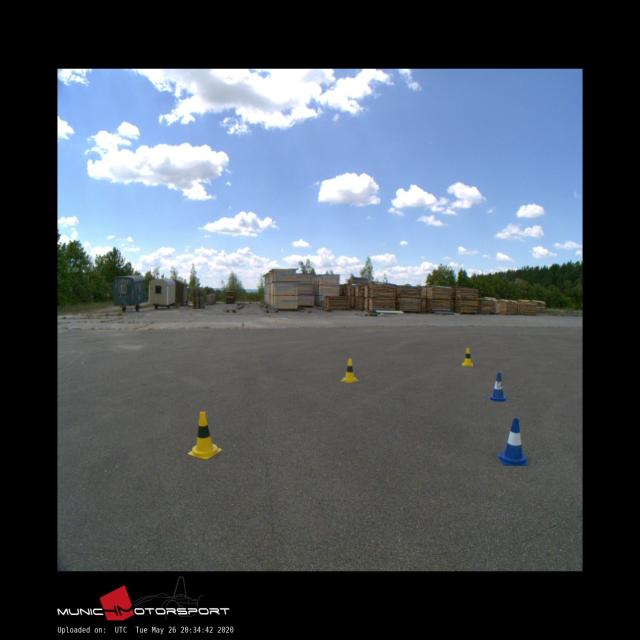blue_cone: (497, 418, 528, 465), (488, 372, 508, 401)
yellow_cone: (187, 410, 222, 458), (340, 357, 358, 383), (462, 348, 473, 365)
